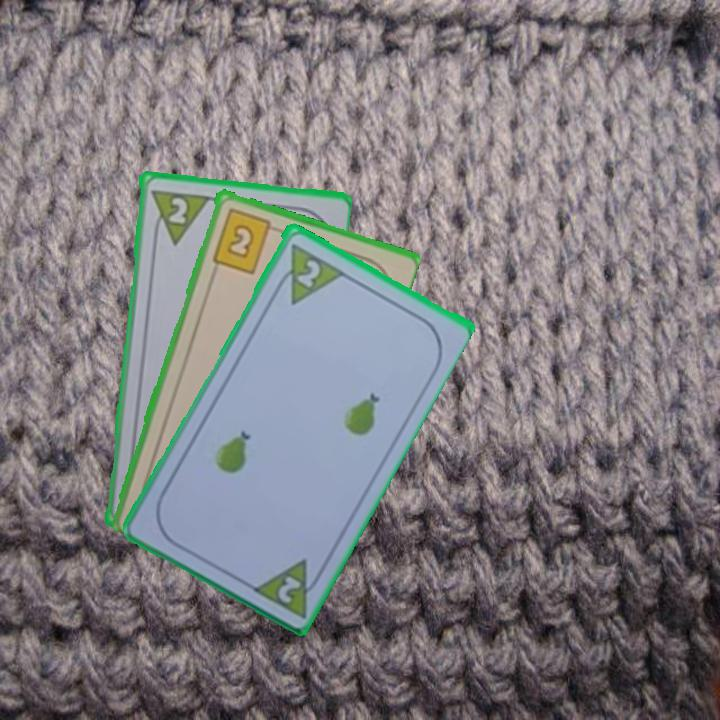2b: (208, 204, 282, 276)
2p: (146, 185, 211, 248), (293, 255, 323, 290), (274, 571, 304, 606)
